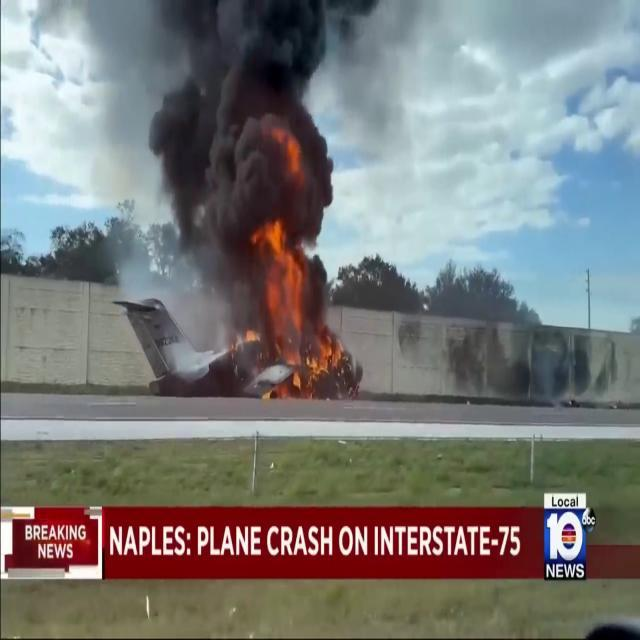Fire: (252, 220, 351, 396)
Smoke: (143, 1, 347, 302)
